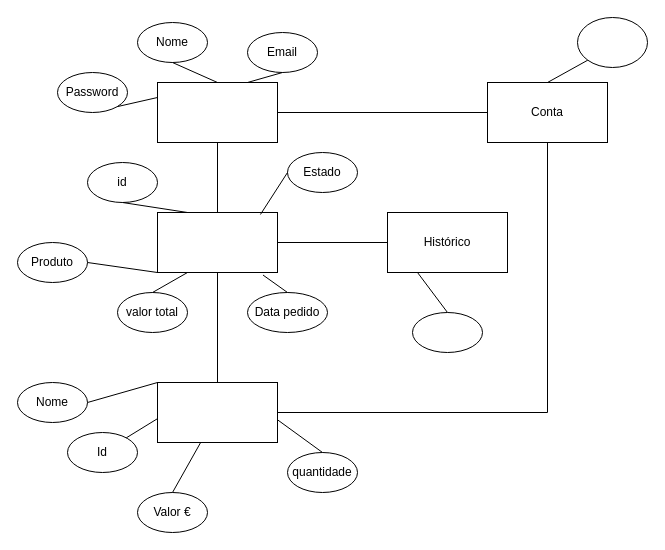
Image size: 665x550. Some labels were removed from this diagram. Here are the shapes that lost their labels. From the top down, the centre of each, then its label:
the point at 612,42: Saldo
the point at 217,112: Cliente
the point at 217,242: Pedidos
the point at 447,332: Pedido
the point at 217,412: Produtos
